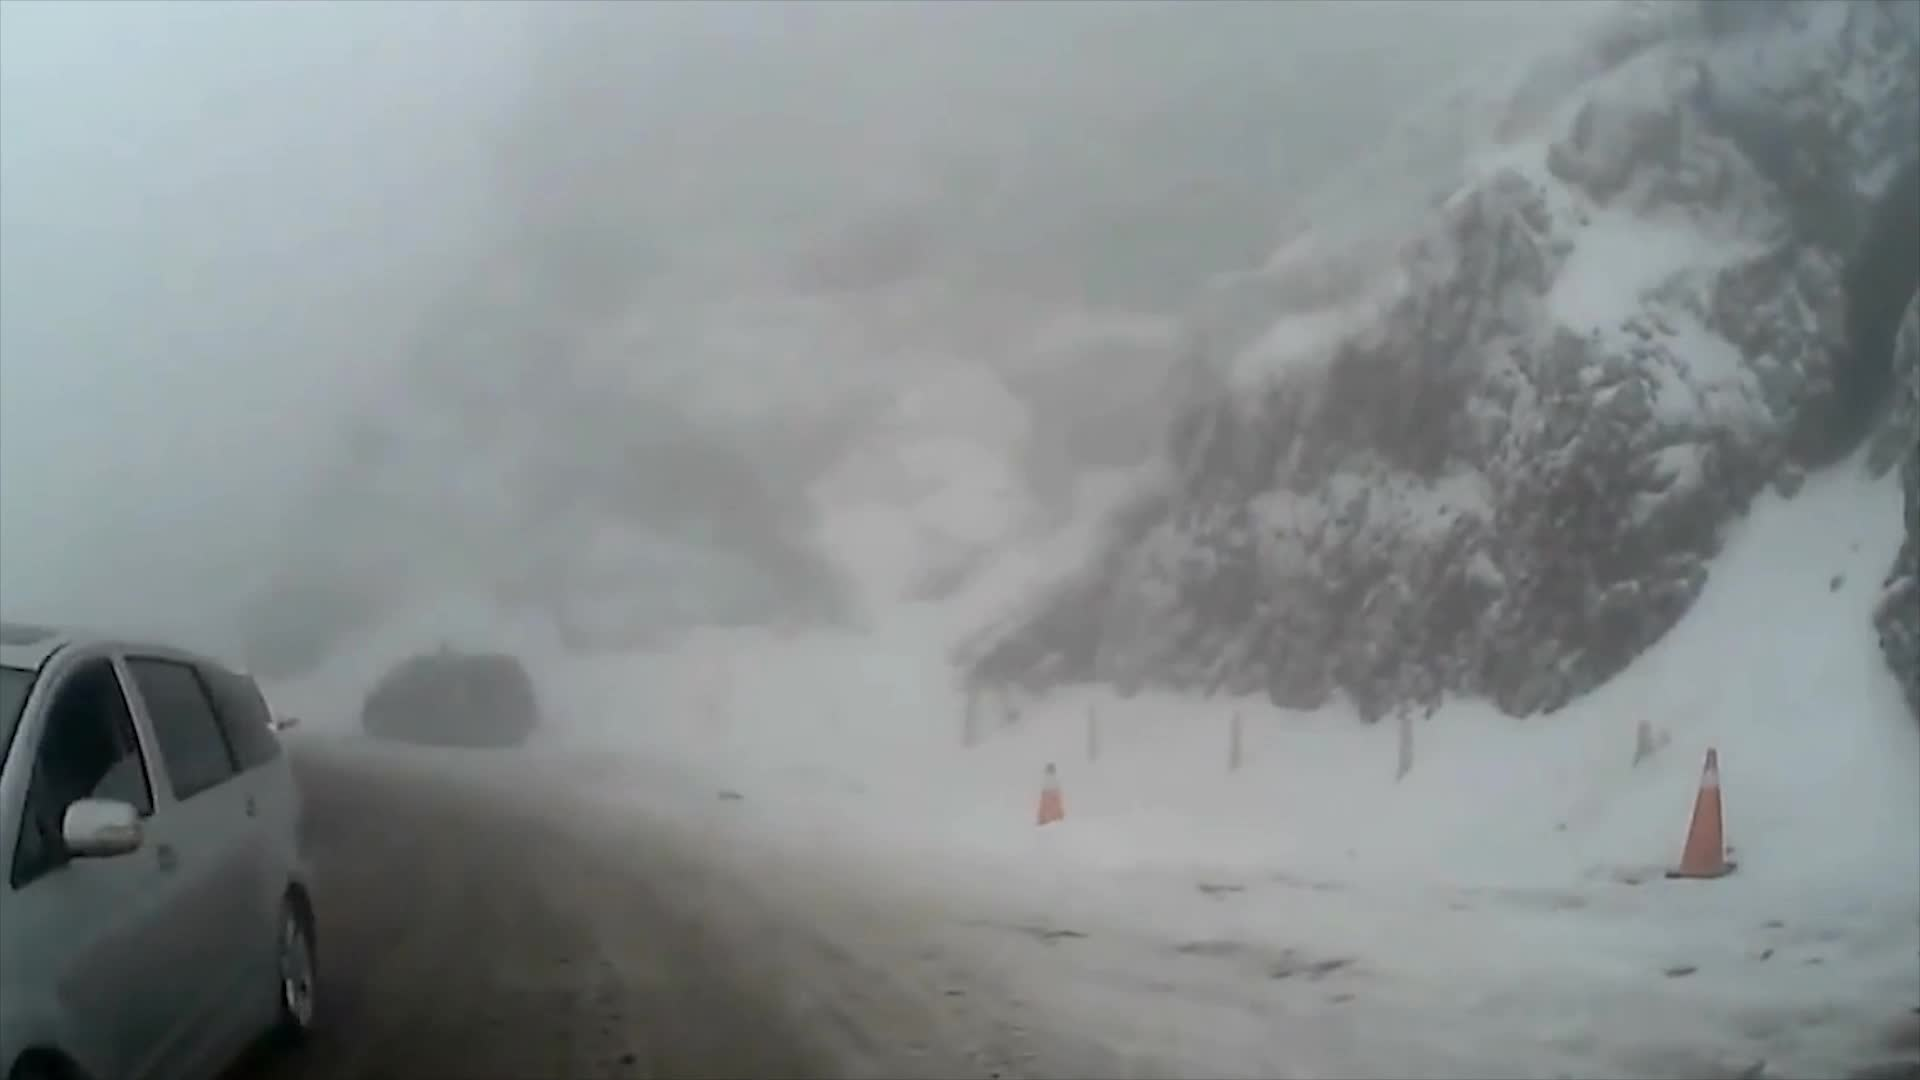vehicle: (0, 624, 326, 1079), (356, 651, 535, 752)
